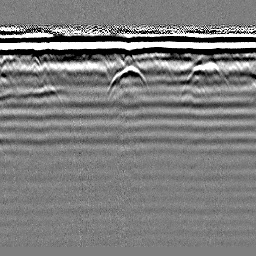cavity: (105, 64, 147, 104)
